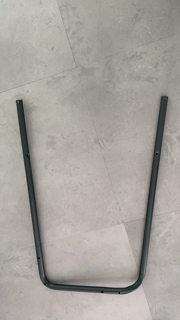U pipe: (13, 94, 172, 296)
